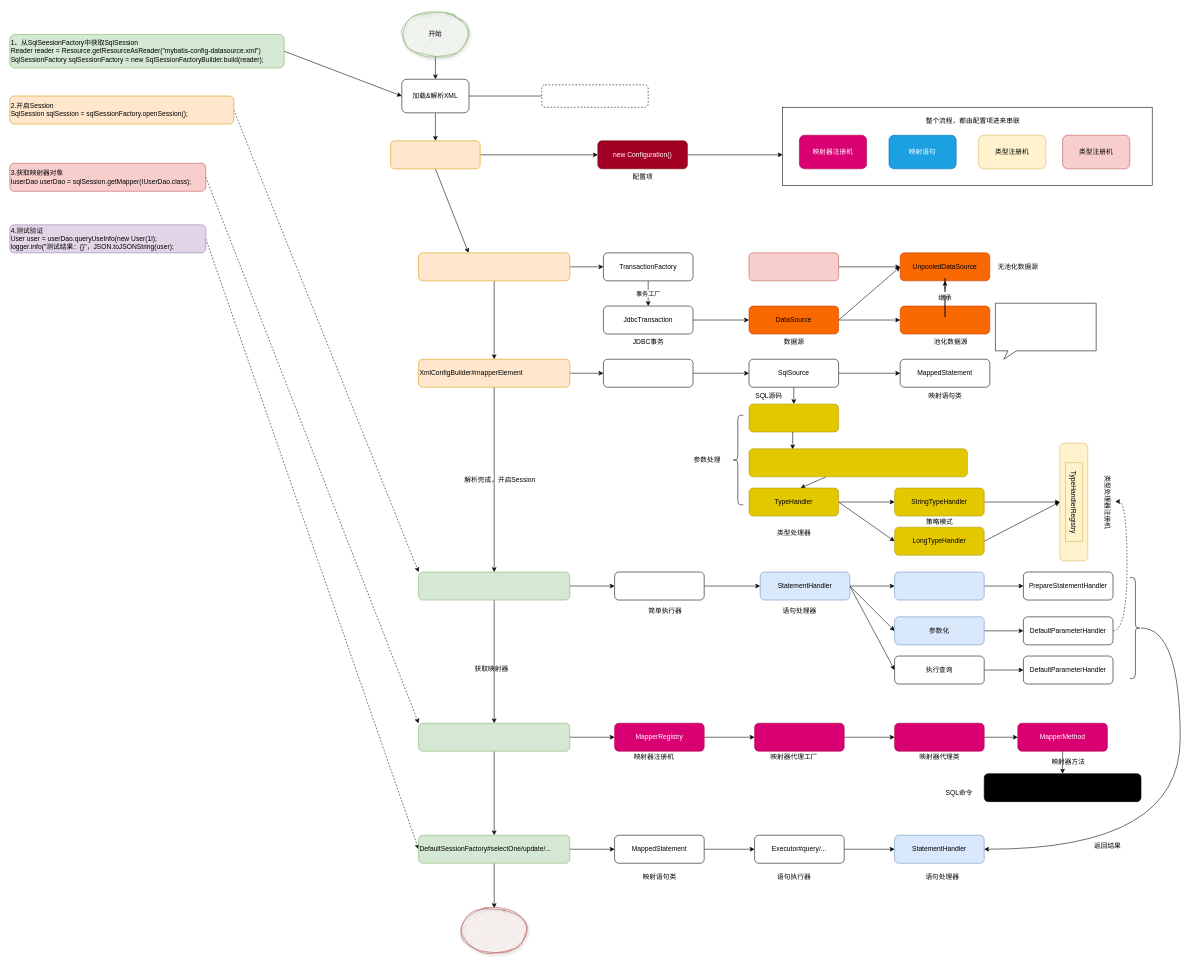
Some shapes in this 1190 by 967 pixel diagram are drawn without their labels. Each missing label, with the centre of its shape:
"DefaultSessionFactory#getMapper" belongs at (494,737).
"DefaultSessionFactory#Opensession" belongs at (494,585).
"Insert/Delete/Update/Select" belongs at (1062,787).
"MapperProxy" belongs at (939,737).
"MapperProxyFactory" belongs at (799,737).
"MetaObject" belongs at (793,266).
"mybatis-config-datasource.xml" belongs at (594,95).
"ParameterMappingTokenHandler#buildParameterMapping" belongs at (857,462).
"PooledConnection" belongs at (945,319).
"SimpleExecutor" belongs at (659,585).
"SqlSessionFactoryBuilder" belongs at (435,154).
"SqlSourceBuilder" belongs at (793,417).
"XMLanguageDriver" belongs at (648,373).
"XmlConfigBuilder#environmentsElement" belongs at (494,266).
"准备语句" belongs at (939,585).
"映射语句类，含有；配置、ID、 SQL命令、SQL源码、返回结果、脚本语言驱动器" belongs at (1045,331).
"结束" belongs at (494,931).
